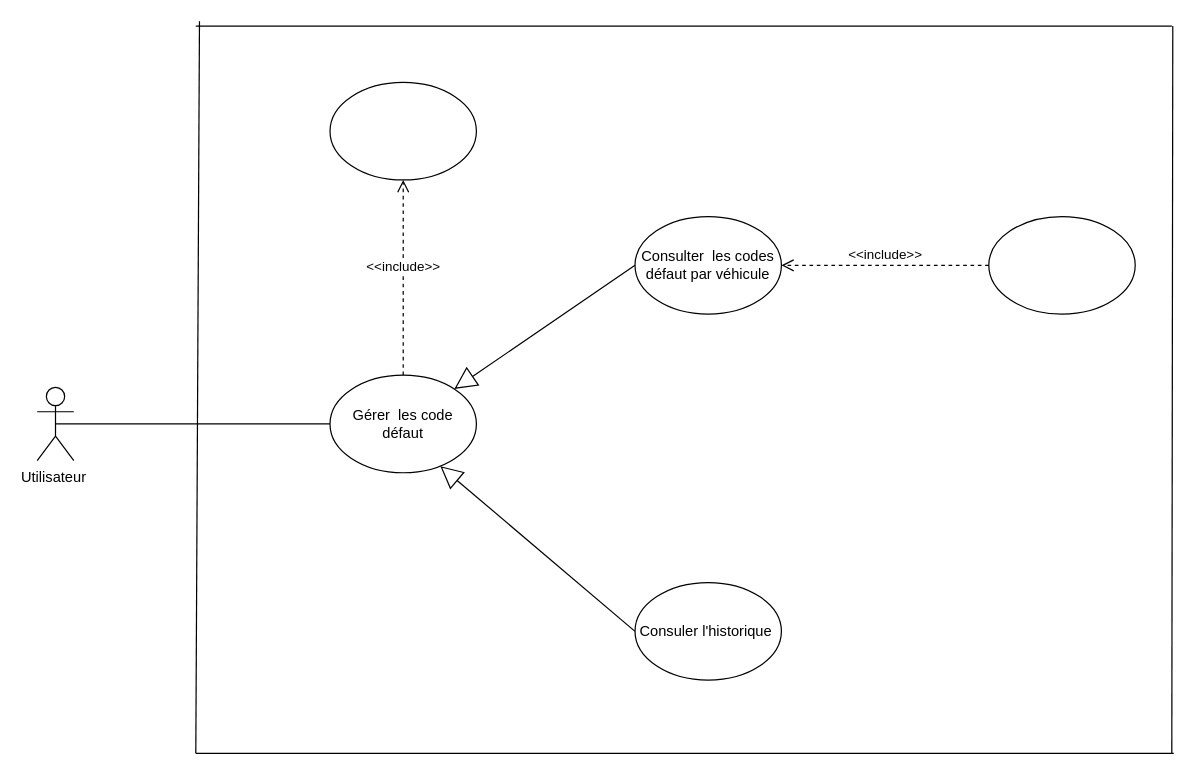
Image size: 1197x776. Some labels were removed from this diagram. Each missing label, with the centre of its shape:
"Filtrer les codes défauts" belongs at point (1061, 264).
"S'authentifier" belongs at point (402, 130).
